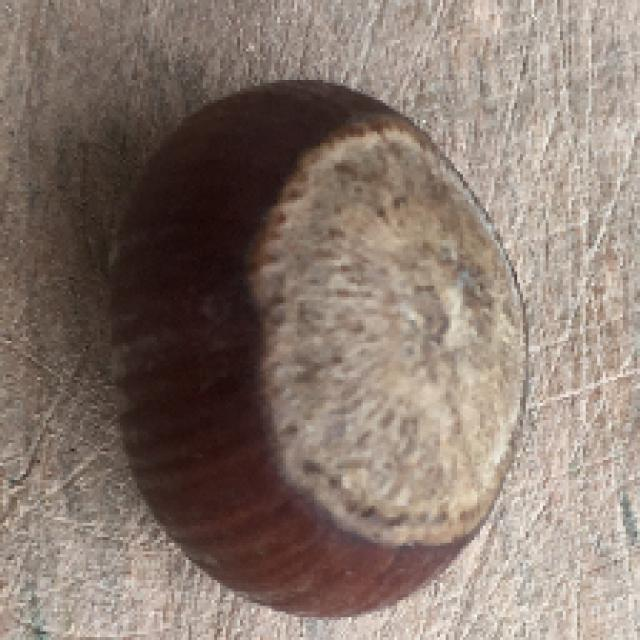qualityHazelnut: (99, 73, 530, 617)
